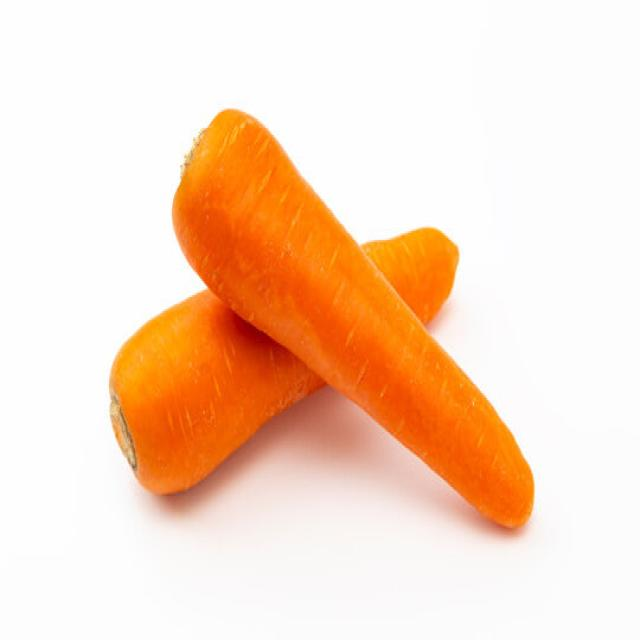Carrot: (170, 105, 534, 528), (108, 286, 327, 496), (359, 224, 459, 325)
